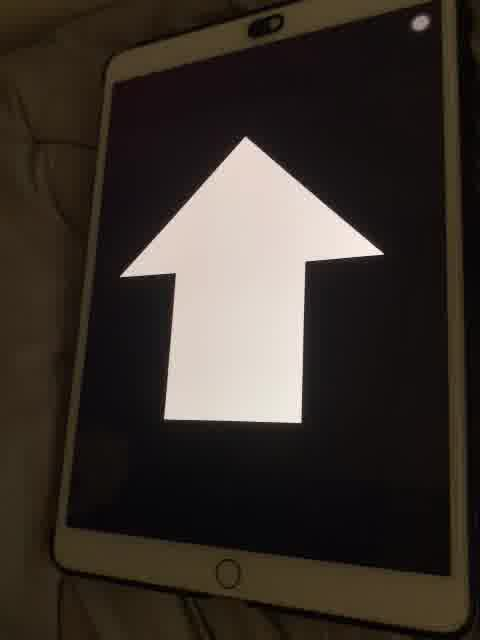up: (118, 132, 388, 427)
